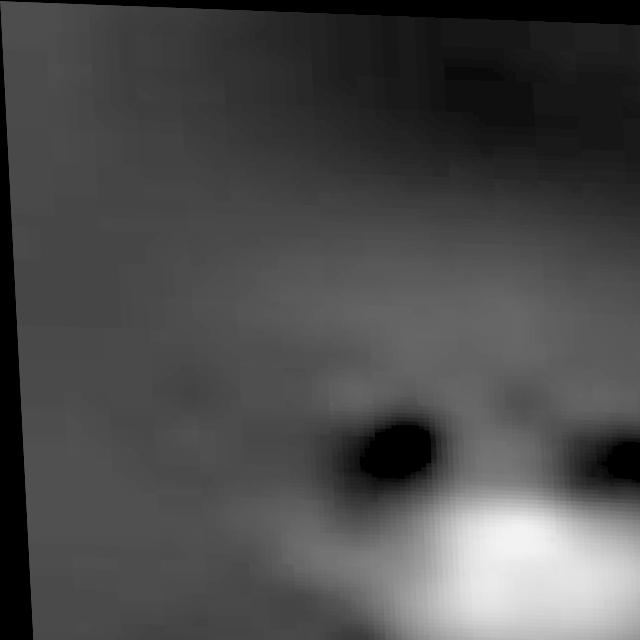person: (280, 481, 640, 640)
